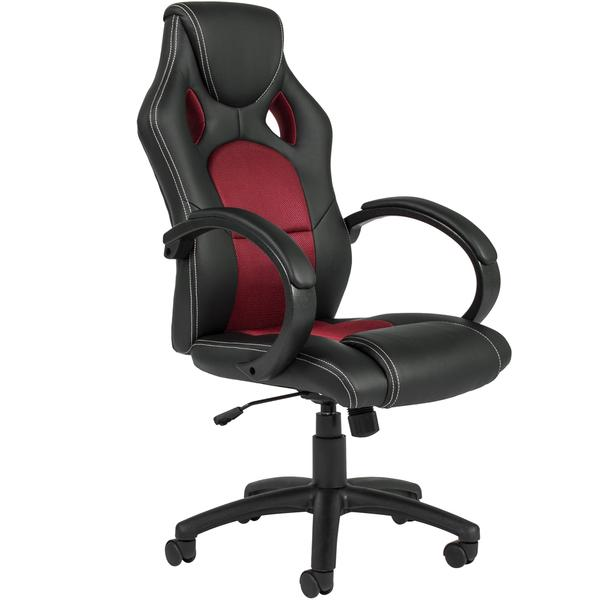chairs: (136, 1, 514, 600)
